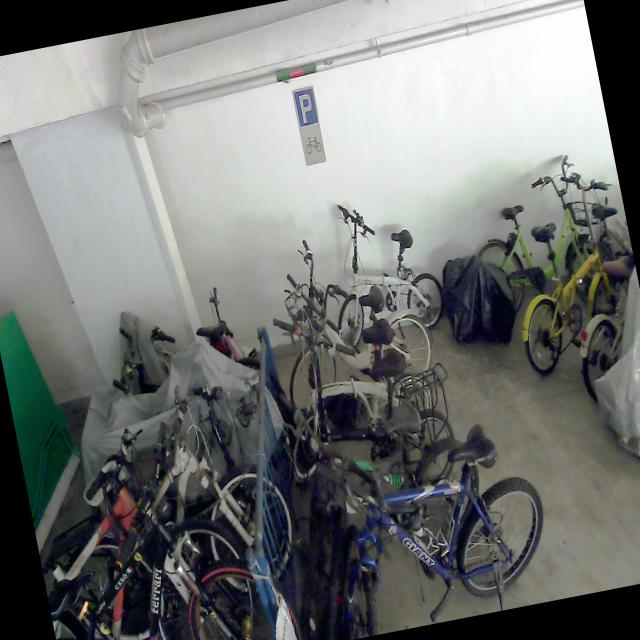bike: (43, 368, 309, 640), (20, 404, 306, 640), (283, 413, 560, 640), (19, 411, 266, 640), (276, 342, 468, 540), (260, 220, 439, 412), (264, 290, 442, 482), (460, 149, 630, 339), (494, 164, 640, 375), (315, 187, 450, 348)
